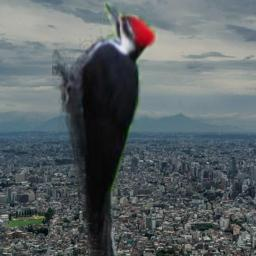Woodpecker: (52, 1, 160, 256)
